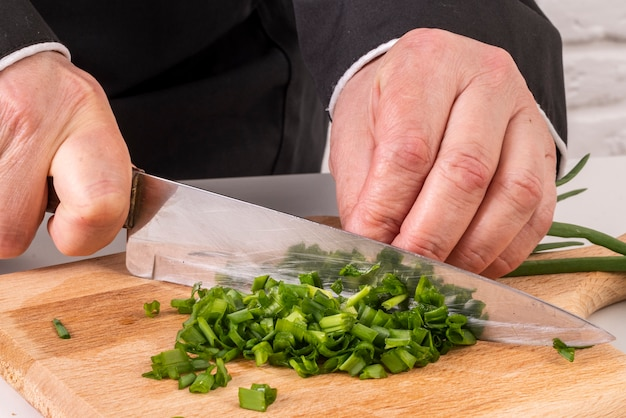knife: (126, 170, 617, 349)
